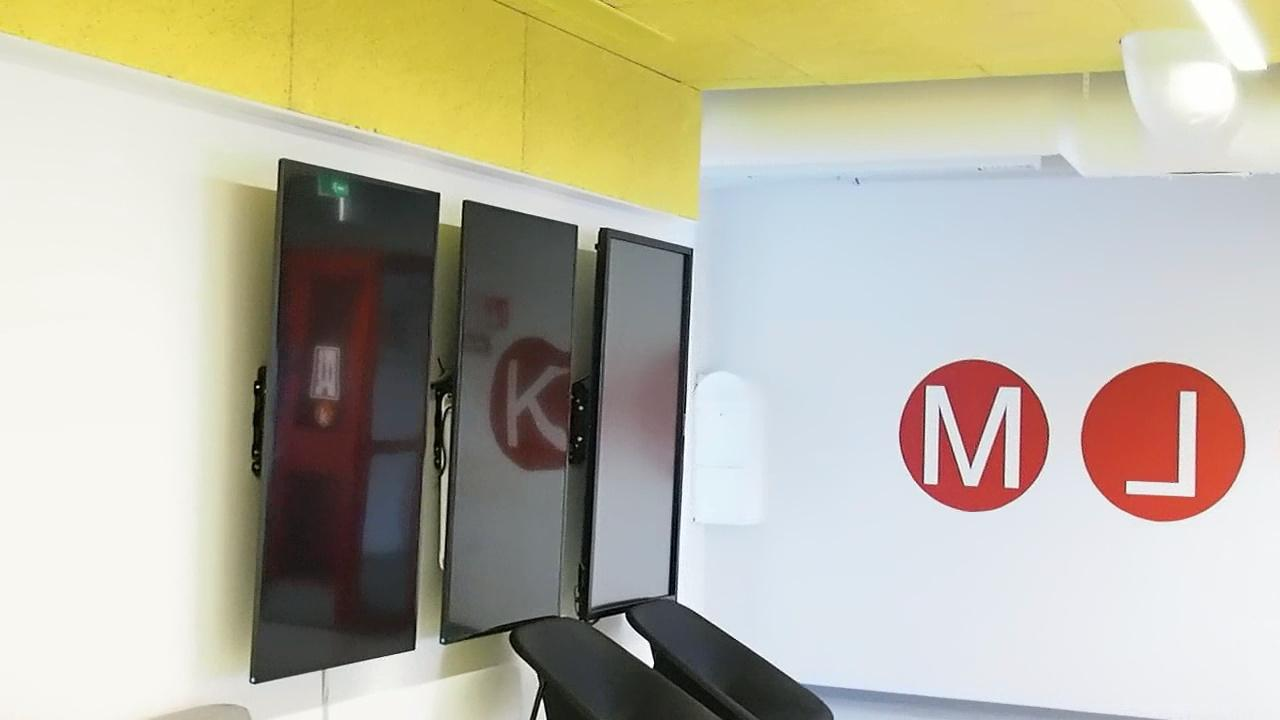screen: (237, 152, 448, 683), (443, 194, 582, 646), (576, 221, 698, 620)
